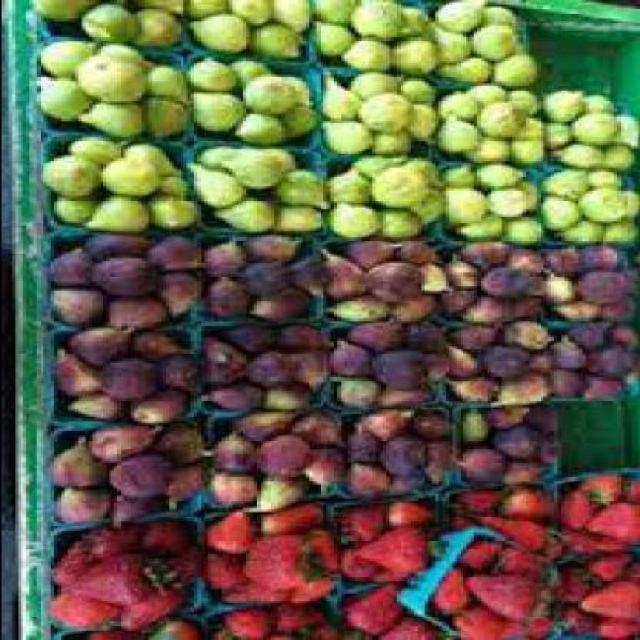BIODEGRADABLE: (245, 530, 340, 584), (74, 554, 178, 603), (469, 568, 549, 617), (76, 47, 147, 102), (353, 523, 430, 571), (297, 530, 346, 601), (90, 255, 168, 298), (189, 155, 248, 208), (122, 582, 193, 626), (52, 584, 123, 628), (112, 452, 178, 496), (69, 321, 140, 361), (248, 71, 314, 114), (350, 581, 402, 634), (53, 433, 109, 482), (84, 193, 158, 230), (35, 73, 94, 119), (231, 147, 297, 188), (81, 96, 147, 136), (583, 574, 639, 621), (104, 152, 168, 193), (192, 12, 255, 53), (476, 512, 552, 545), (203, 332, 252, 382), (90, 424, 162, 458), (50, 284, 116, 321), (46, 152, 105, 193), (259, 436, 315, 479), (324, 244, 370, 296), (230, 405, 302, 438), (42, 37, 101, 77), (192, 88, 248, 130), (213, 193, 276, 230), (372, 347, 430, 387), (84, 0, 139, 42), (126, 5, 185, 44), (277, 168, 332, 209), (105, 358, 161, 398), (109, 294, 174, 328), (154, 423, 209, 463), (354, 0, 409, 40), (255, 474, 311, 512), (381, 431, 430, 474), (361, 90, 416, 128), (151, 230, 203, 270), (483, 98, 535, 138), (133, 388, 196, 421), (248, 347, 304, 384), (262, 500, 328, 531), (375, 168, 430, 205), (52, 538, 98, 582), (493, 370, 556, 402), (241, 258, 294, 296), (455, 603, 514, 637), (242, 228, 308, 258), (60, 350, 106, 393), (434, 560, 472, 612), (375, 258, 427, 296), (402, 317, 455, 354), (328, 200, 381, 237), (203, 237, 252, 277), (66, 388, 129, 419), (210, 510, 256, 552), (216, 426, 262, 468), (52, 242, 98, 284), (326, 114, 374, 154), (361, 405, 419, 438), (185, 54, 241, 88), (423, 436, 462, 484), (164, 273, 207, 316), (70, 135, 125, 168), (129, 142, 182, 176), (504, 486, 562, 517), (252, 21, 308, 53), (591, 500, 638, 538), (87, 231, 161, 255), (444, 187, 496, 221), (238, 110, 290, 144), (462, 442, 511, 478), (115, 491, 168, 524), (350, 458, 396, 496), (63, 486, 115, 519), (578, 270, 633, 301), (346, 503, 392, 540), (290, 347, 336, 384), (444, 114, 490, 151), (398, 37, 444, 74), (430, 23, 476, 60), (346, 36, 396, 70), (210, 274, 252, 314), (294, 412, 343, 446), (381, 206, 430, 240), (326, 68, 360, 117), (332, 338, 378, 374), (461, 237, 514, 268), (307, 444, 350, 482), (573, 111, 622, 144), (228, 607, 280, 638), (213, 377, 265, 408), (496, 421, 542, 456), (332, 296, 396, 321), (486, 266, 539, 296), (213, 470, 262, 502), (150, 193, 199, 225), (581, 188, 630, 220), (157, 354, 203, 388), (346, 418, 385, 458), (332, 165, 374, 202), (94, 523, 144, 554), (556, 137, 606, 168), (342, 238, 406, 262), (546, 168, 594, 200), (147, 96, 185, 136), (437, 0, 486, 31), (340, 372, 386, 405), (486, 342, 536, 372), (465, 135, 518, 163), (280, 598, 329, 628), (360, 314, 409, 344), (217, 579, 294, 598), (164, 464, 207, 498), (504, 319, 556, 347), (350, 149, 408, 174), (347, 70, 405, 95), (546, 194, 588, 228), (500, 51, 542, 85), (580, 470, 626, 501), (322, 16, 360, 53), (144, 329, 196, 356), (290, 254, 324, 295), (486, 182, 532, 212), (510, 134, 553, 166), (231, 319, 286, 344), (588, 547, 637, 575), (588, 370, 637, 398), (214, 549, 248, 589), (560, 488, 594, 528), (406, 102, 440, 142), (252, 291, 311, 314), (454, 322, 504, 349), (507, 243, 550, 274), (556, 330, 595, 364), (147, 522, 196, 549), (367, 129, 416, 156), (441, 54, 496, 78), (52, 193, 94, 224), (504, 459, 556, 484), (378, 382, 437, 404), (147, 60, 185, 94), (342, 549, 388, 577), (458, 484, 514, 507), (560, 217, 606, 245), (405, 156, 444, 189), (451, 372, 504, 396), (597, 292, 638, 323), (482, 23, 521, 55), (392, 612, 441, 637), (280, 203, 329, 228), (276, 0, 315, 31), (154, 614, 203, 638), (388, 499, 437, 523), (479, 405, 535, 426), (507, 214, 550, 241), (392, 293, 441, 316), (266, 384, 314, 407), (469, 538, 503, 570), (553, 90, 587, 122), (284, 104, 318, 136), (597, 346, 638, 372), (290, 319, 328, 347), (526, 402, 560, 433), (416, 410, 458, 435), (462, 212, 511, 233), (597, 615, 638, 640), (413, 186, 444, 219), (394, 238, 440, 260), (560, 294, 602, 318), (563, 568, 594, 600), (234, 0, 277, 23), (198, 146, 242, 168), (500, 547, 546, 568), (486, 163, 528, 186), (602, 142, 638, 168), (402, 75, 441, 99), (38, 0, 90, 18), (472, 298, 514, 320), (322, 0, 364, 22), (469, 408, 496, 442), (557, 368, 591, 395), (567, 322, 605, 346), (584, 245, 622, 269), (441, 92, 479, 116), (452, 344, 482, 374), (482, 5, 521, 28), (402, 4, 430, 36), (529, 605, 556, 638), (452, 256, 479, 289), (293, 619, 339, 638), (448, 286, 486, 309), (563, 603, 594, 631), (179, 547, 206, 579), (242, 56, 276, 81), (553, 245, 584, 272), (511, 296, 549, 318), (427, 349, 455, 377), (549, 272, 577, 300), (608, 323, 638, 349), (466, 81, 514, 97), (539, 430, 563, 461), (108, 42, 147, 61), (95, 624, 147, 638), (596, 167, 630, 188), (618, 114, 638, 148), (188, 1, 232, 16), (584, 95, 618, 114), (552, 122, 577, 146), (452, 166, 479, 188), (602, 222, 638, 238), (518, 118, 548, 137), (515, 91, 542, 112), (392, 474, 430, 488), (161, 175, 188, 193), (525, 180, 546, 202), (622, 474, 638, 500), (452, 510, 479, 525), (626, 188, 639, 217), (386, 568, 416, 580)
